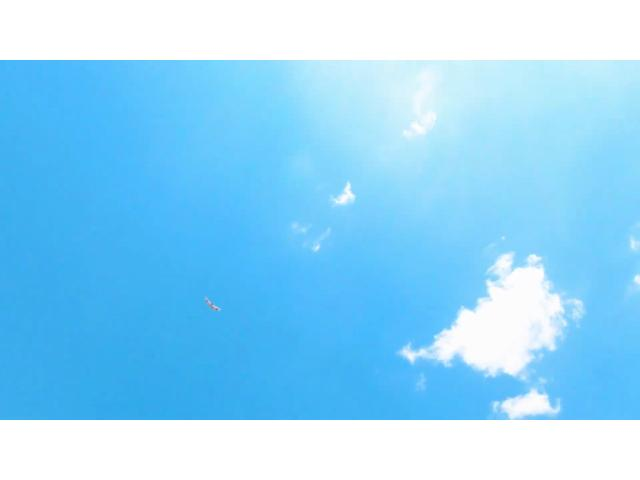Anti-Drone: (189, 278, 235, 326)
